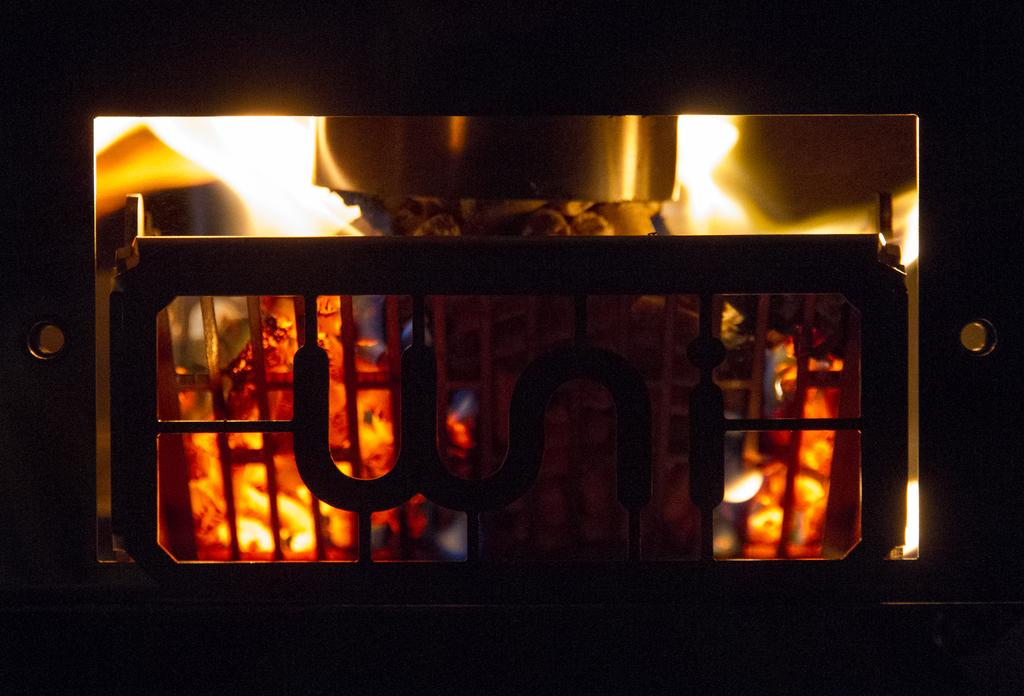Fire: (95, 118, 869, 568)
